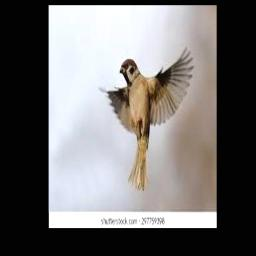Sparrow: (98, 45, 194, 191)
